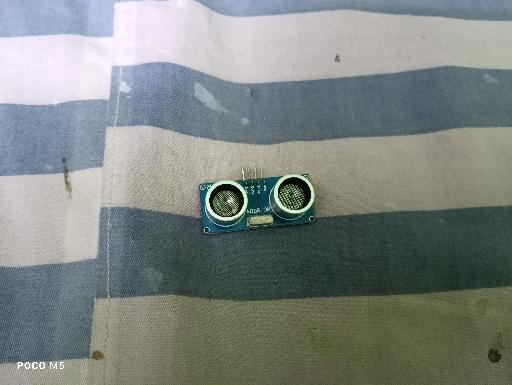sensor: (198, 166, 317, 238)
